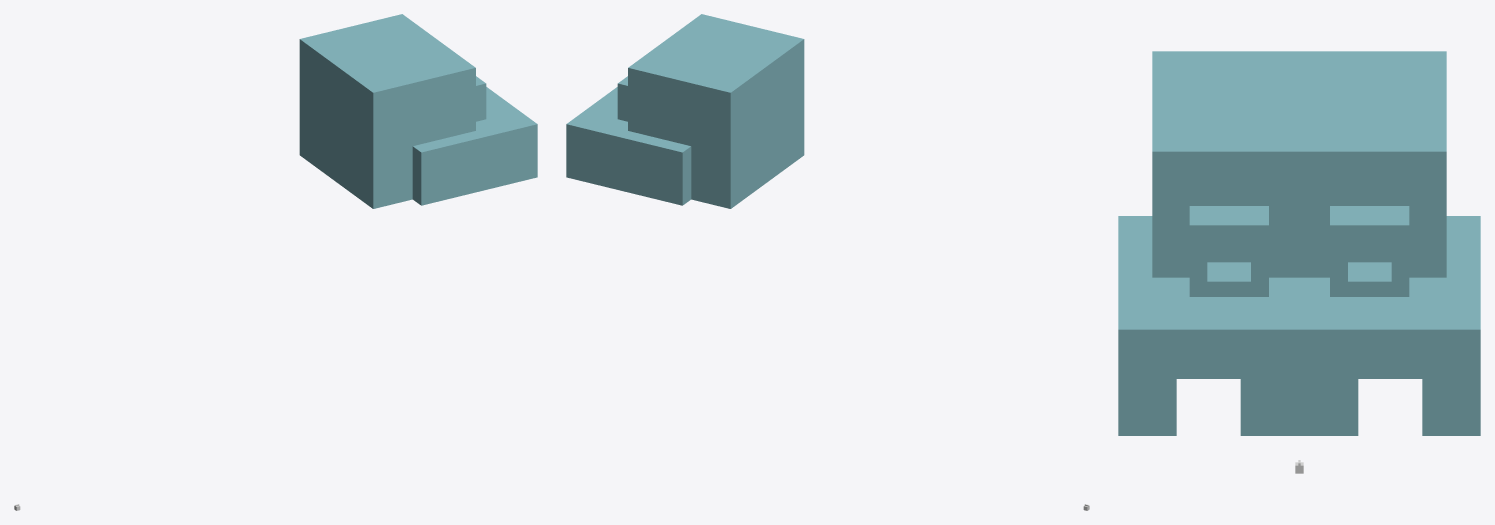
Rendered from cocodrilo.glb.
The picture shows the model from 3 angles, left to right: view 1: azimuth 30°, elevation 25°; view 2: azimuth 150°, elevation 25°; view 3: azimuth 270°, elevation 25°; orthographic projection. The views are drawn at different scales.
Parts seen in each view (by area): view 1: pCube21; view 2: pCube21; view 3: pCube21.
Part boxes in pixels (bbox=[...]): pCube21: bbox=[299, 14, 537, 208]; pCube21: bbox=[566, 14, 804, 208]; pCube21: bbox=[1118, 51, 1480, 435].
Size of the model in its own units: 129 by 94.27 by 42.32.
